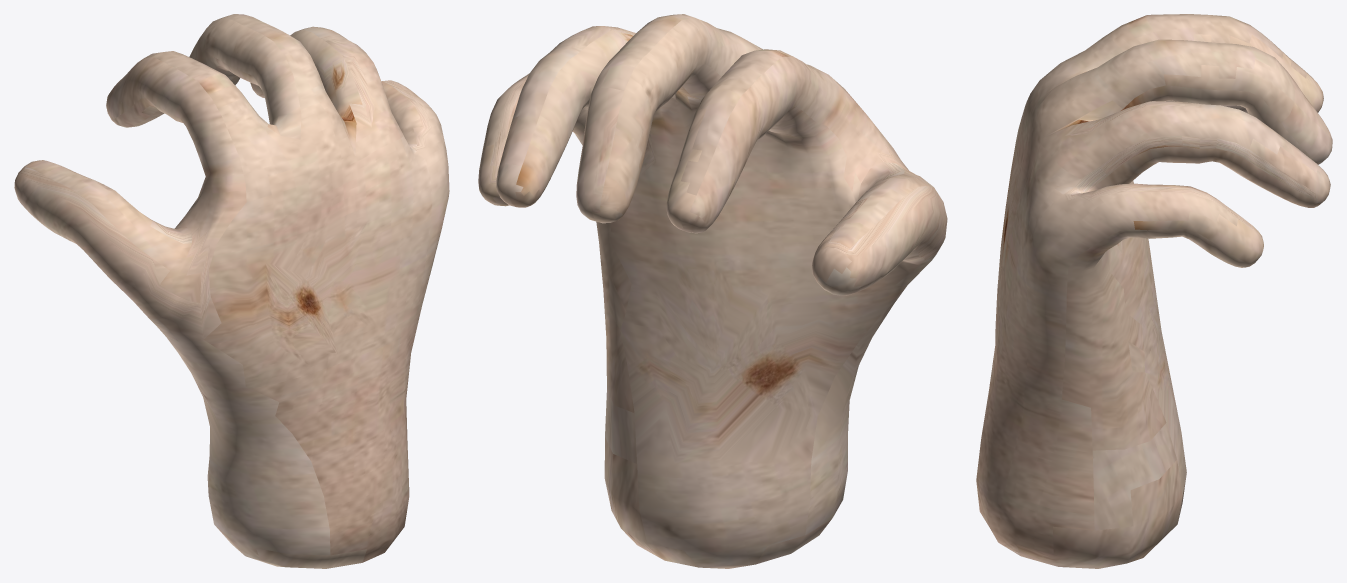
The model's file is hand12.obj.
The picture shows the model from 3 angles, left to right: view 1: azimuth 30°, elevation 25°; view 2: azimuth 150°, elevation 25°; view 3: azimuth 270°, elevation 25°; orthographic projection. The views are drawn at different scales.
Parts seen in each view (by area): view 1: Cube.001; view 2: Cube.001; view 3: Cube.001.
Boxes of the visible parts, x1,y1,x2,y2 form: Cube.001: [14, 14, 449, 568]; Cube.001: [478, 14, 947, 568]; Cube.001: [976, 14, 1332, 568].
Bounding box in the file's own units: 3.64 × 4.71 × 2.98.
